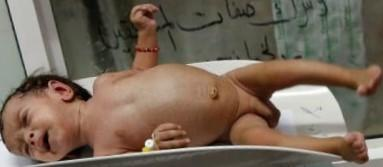Stunting: (0, 73, 103, 167)
